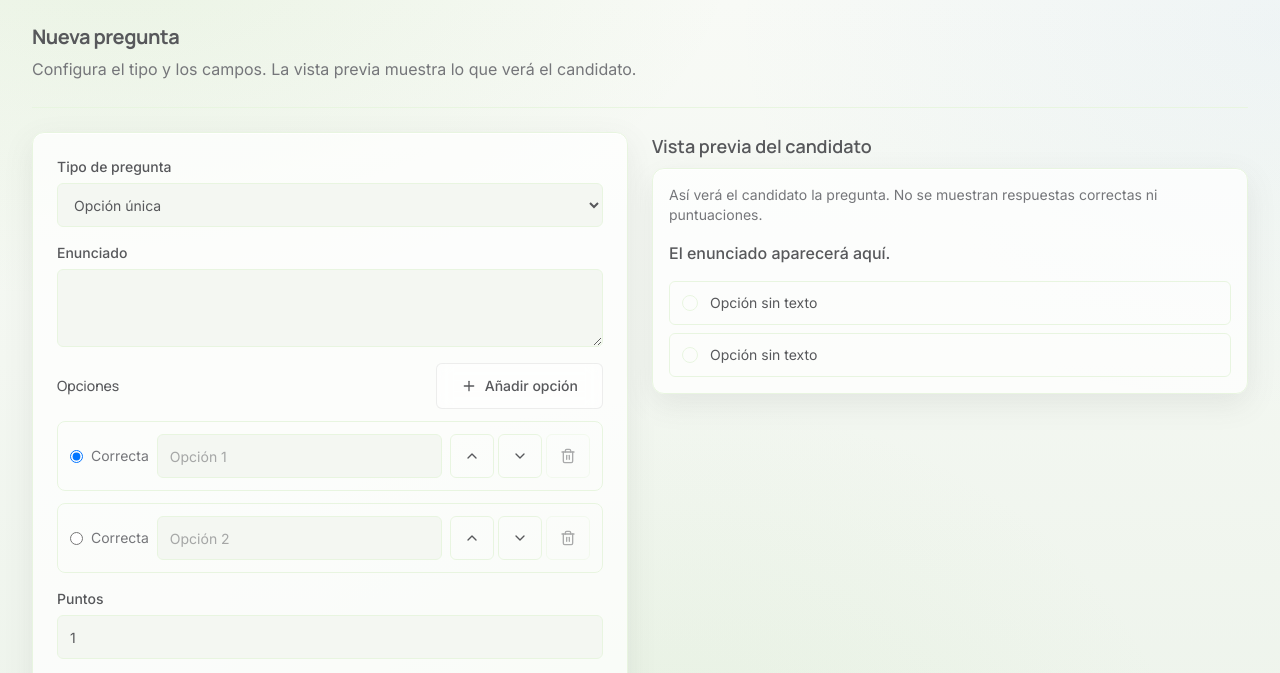
Test: PruebasQuestionEditor UI › keeps written options when the question type changes
The width and height of the screenshot is (1280, 673).
Expected: the heading "Nueva pregunta" is shown, [32,23,179,50]
In the field named "Texto de la opción": (299, 456) [157,434,442,478], type "Una librería"
In the field named "Texto de la opción": (299, 538) [157,516,442,560], type "Un lenguaje"
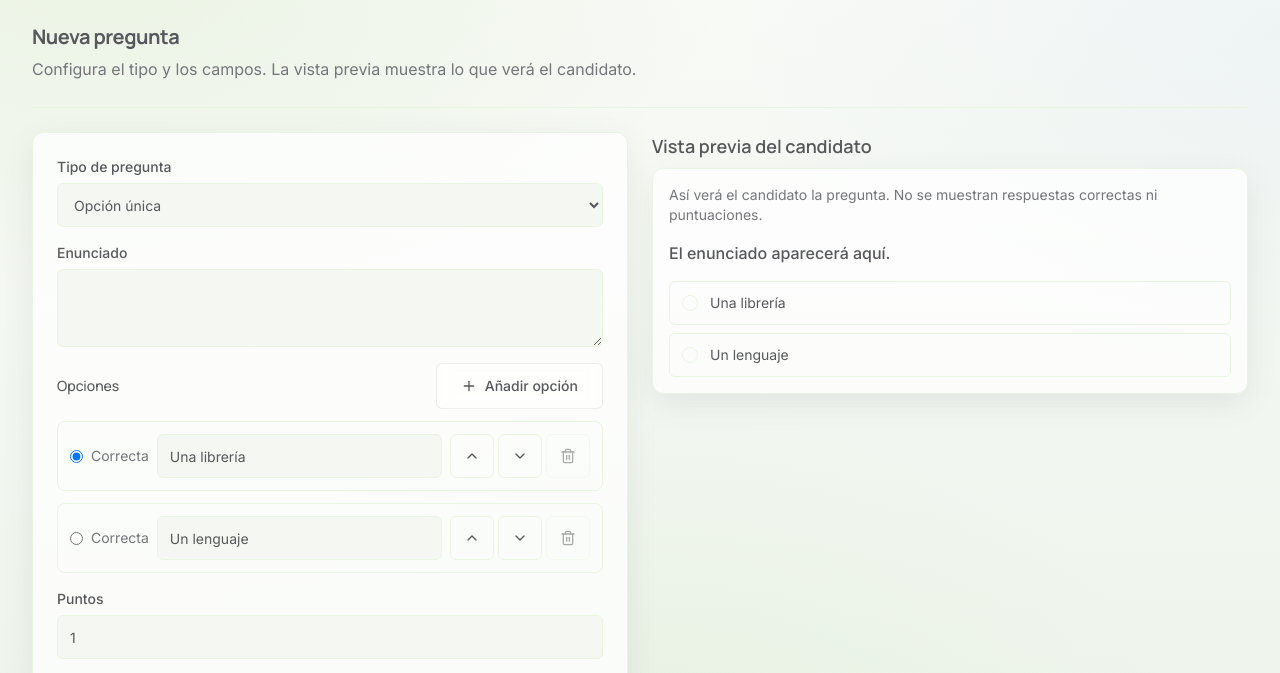
Click the button "Añadir opción": (519, 386) [436,363,603,409]
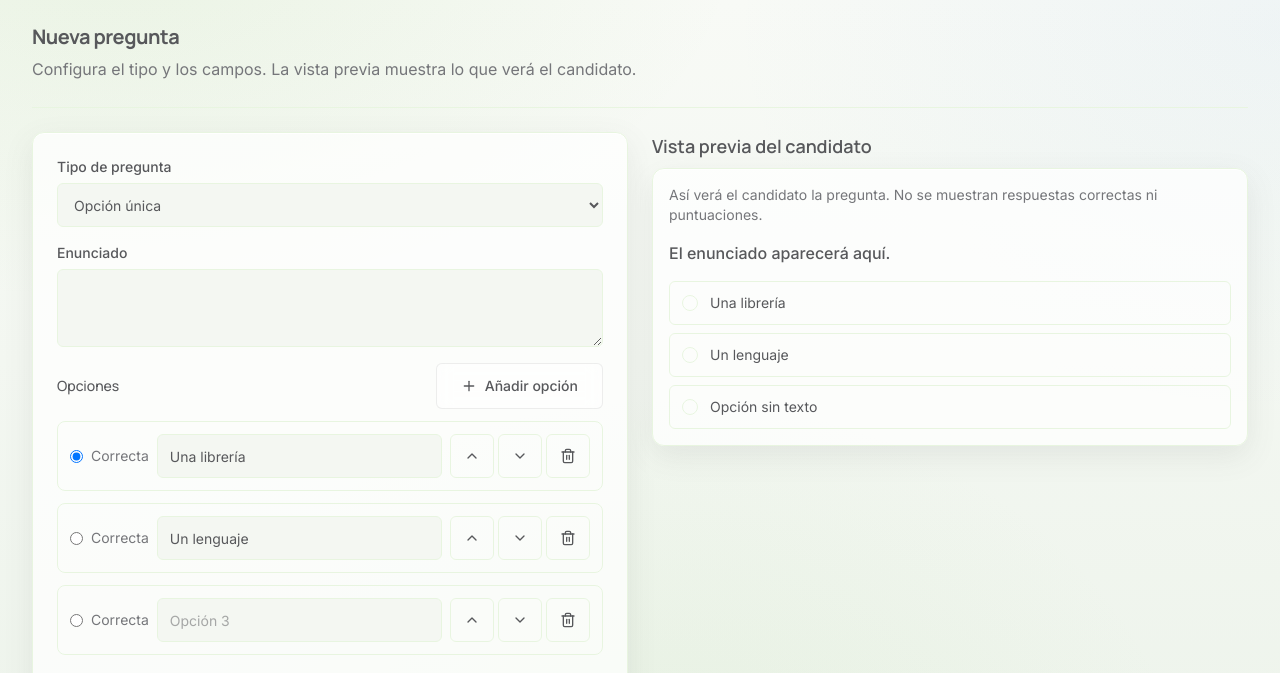
In the field named "Texto de la opción 3": (299, 620) [157,598,442,642], type "Un framework"
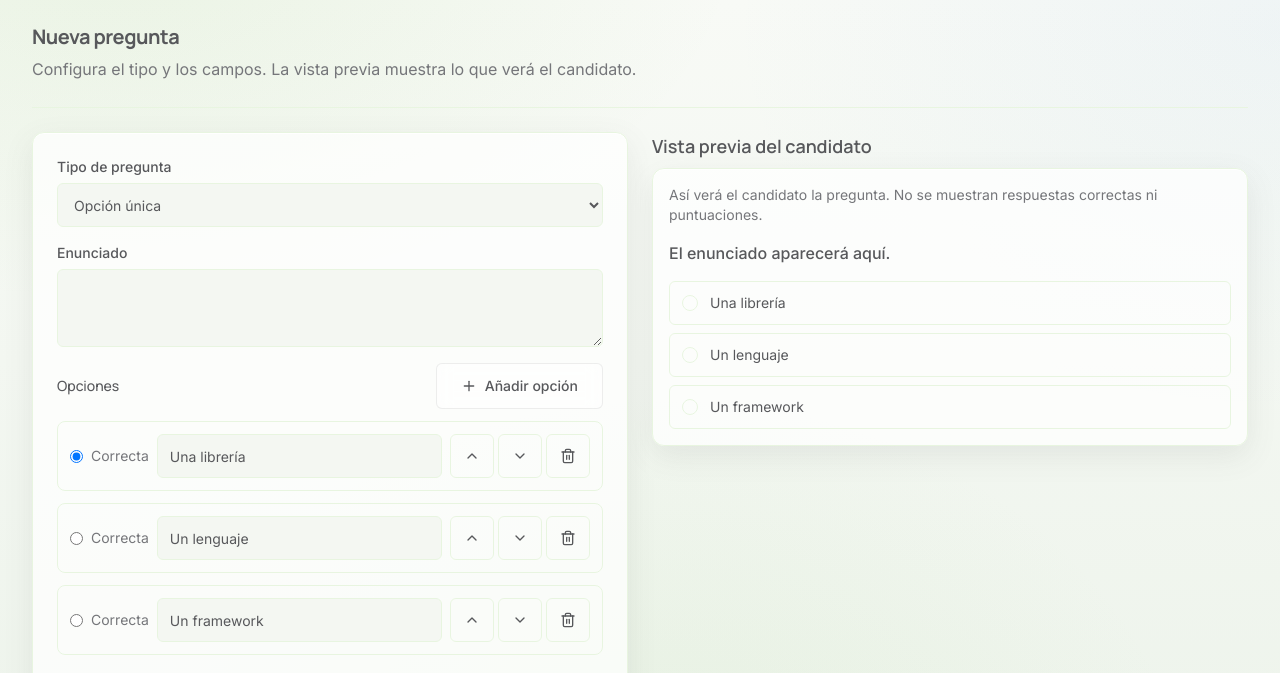
Select "Opción múltiple" in the dropdown labelled "Tipo de pregunta": (330, 205) [57,183,603,227]
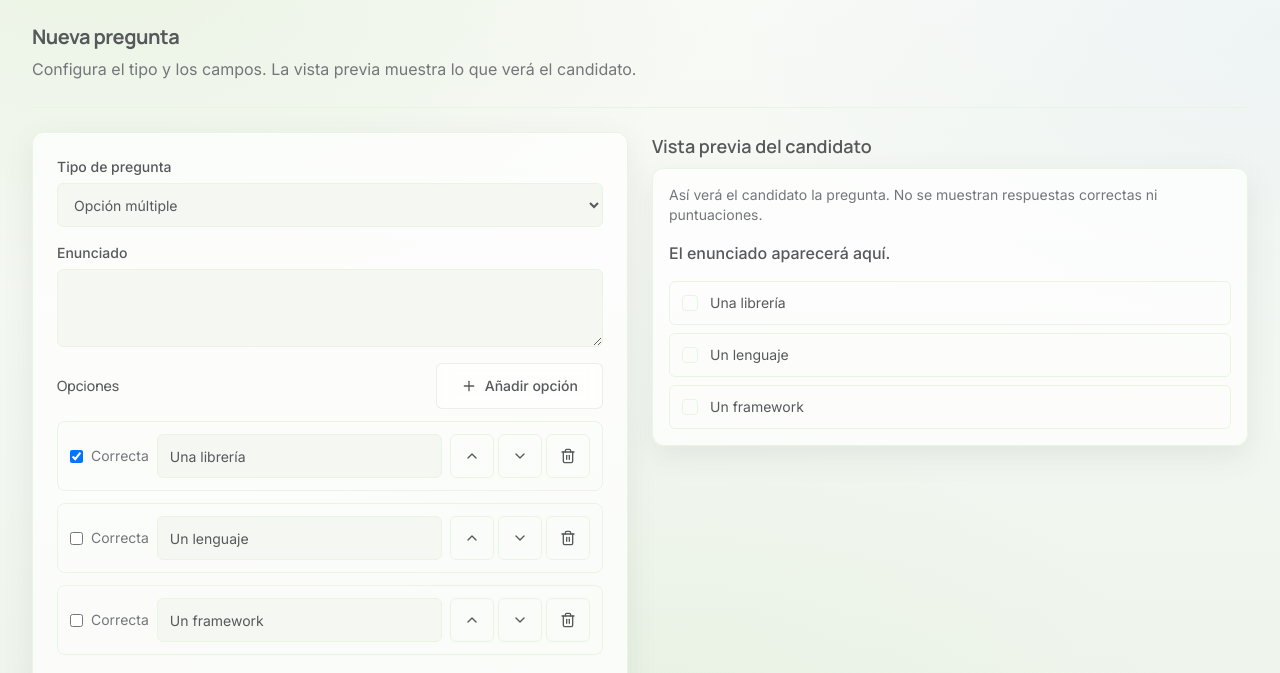
Select "Verdadero o falso" in the dropdown labelled "Tipo de pregunta": (330, 205) [57,183,603,227]
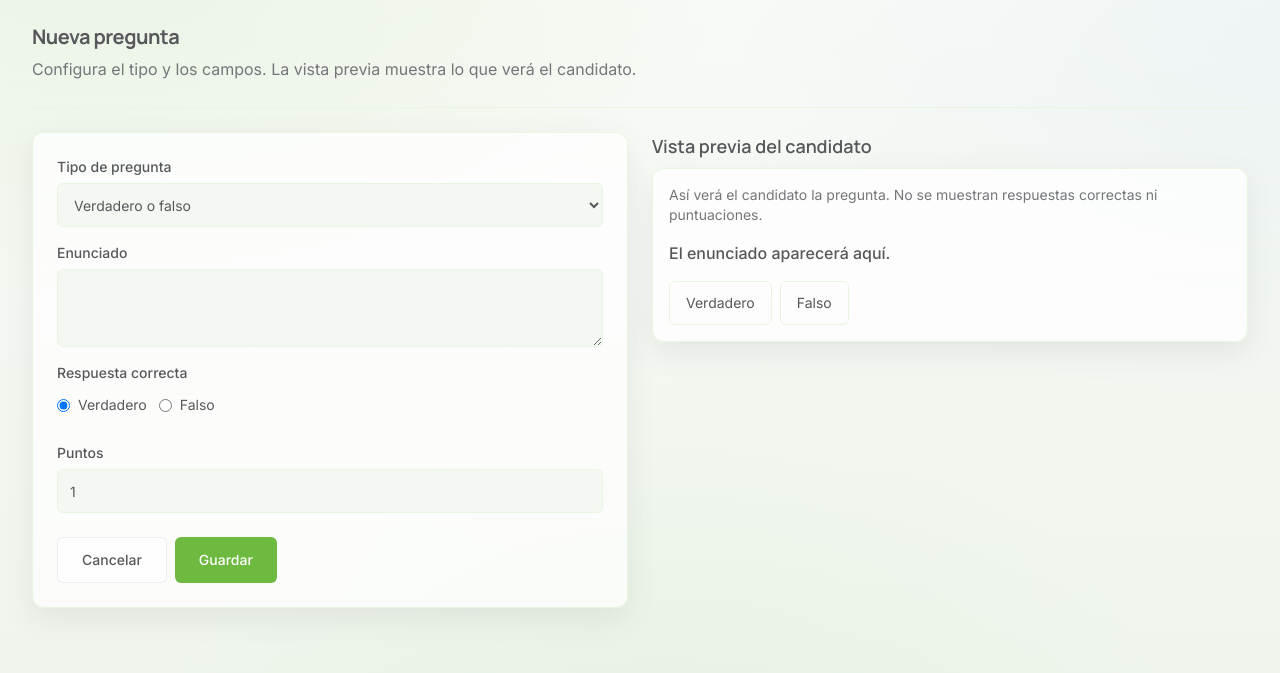
Select "Opción única" in the dropdown labelled "Tipo de pregunta": (330, 205) [57,183,603,227]
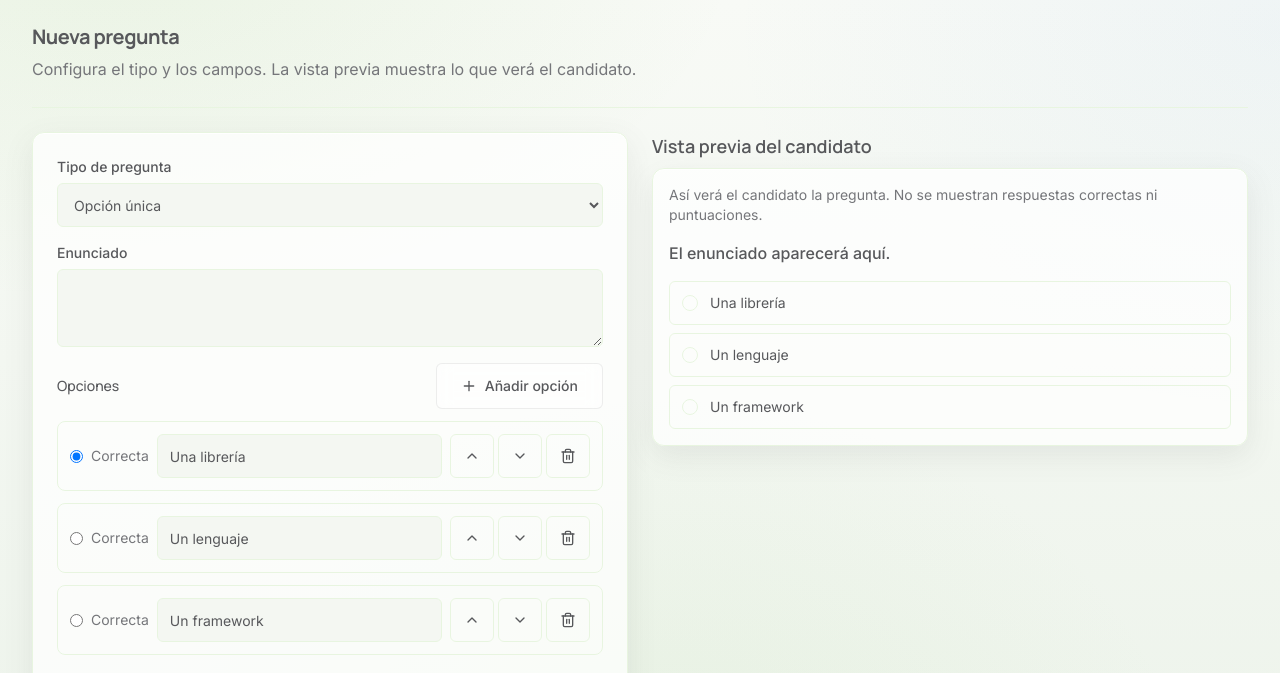
Result: the field named "Texto de la opción 1" holds "Una librería" at [157,434,442,478]
Result: the field named "Texto de la opción 2" holds "Un lenguaje" at [157,516,442,560]
Result: the field named "Texto de la opción 3" holds "Un framework" at [157,598,442,642]
